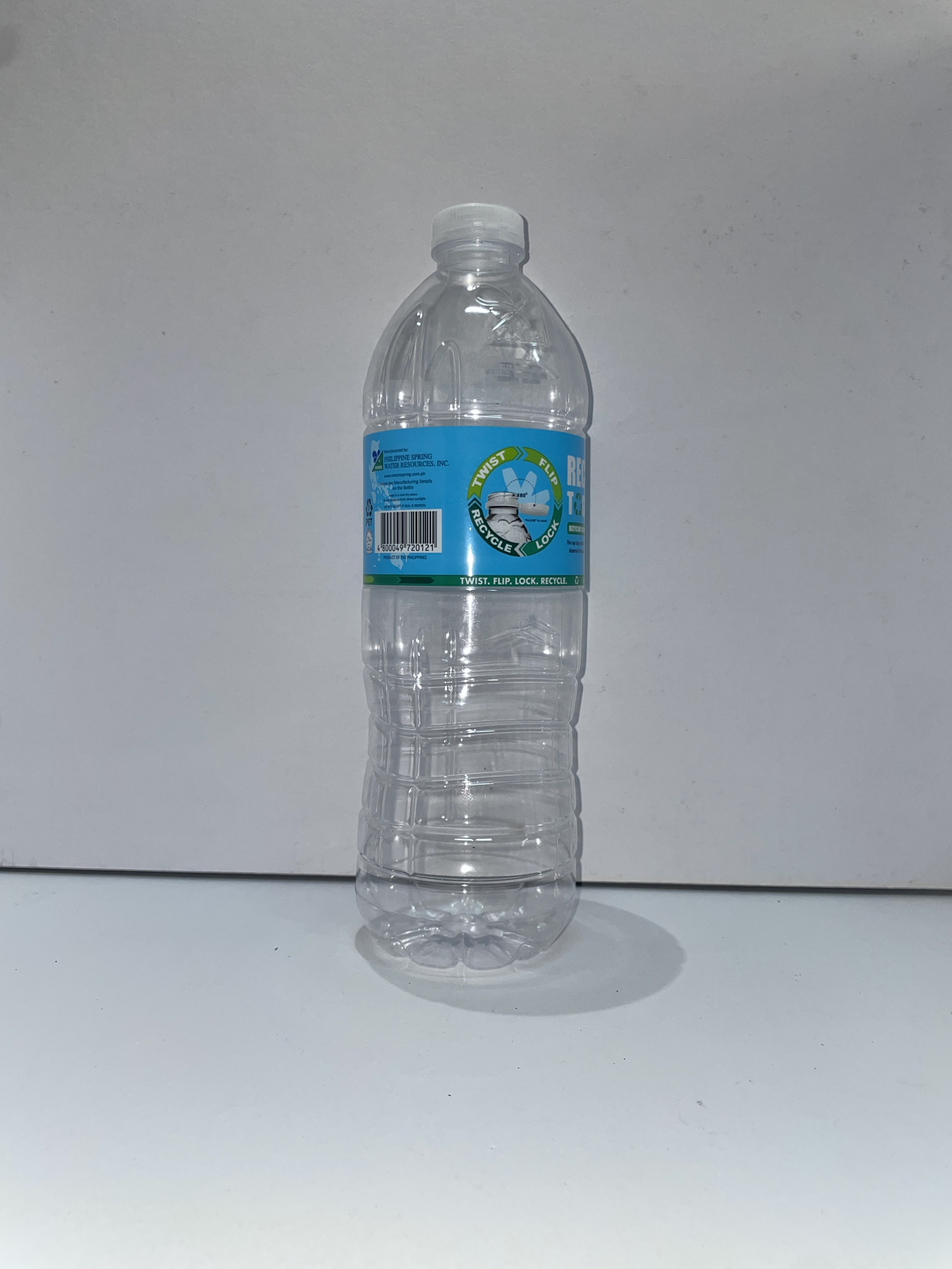Nature spring 1000ml: (357, 203, 590, 967)
